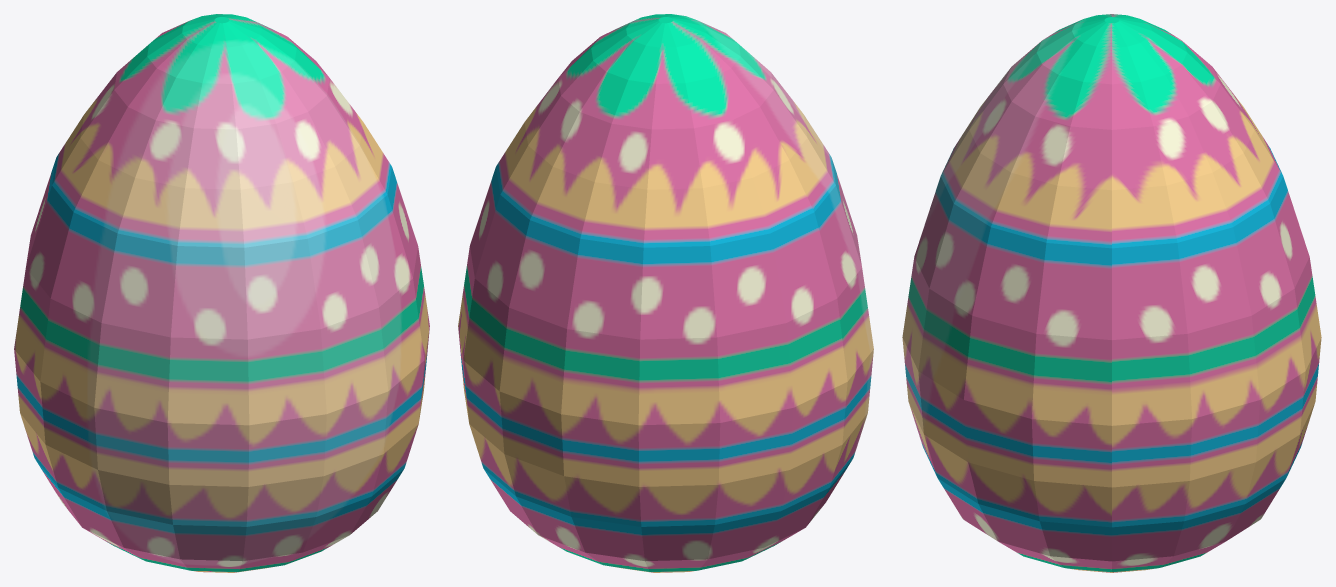
The picture shows the model from 3 angles, left to right: view 1: azimuth 30°, elevation 25°; view 2: azimuth 150°, elevation 25°; view 3: azimuth 270°, elevation 25°; orthographic projection.
Visible parts, largest first — view 1: Colections_Easter_Eggs_3_3; view 2: Colections_Easter_Eggs_3_3; view 3: Colections_Easter_Eggs_3_3.
Part boxes in pixels (<box>): Colections_Easter_Eggs_3_3: <box>14,14,429,572</box>; Colections_Easter_Eggs_3_3: <box>458,14,873,572</box>; Colections_Easter_Eggs_3_3: <box>902,14,1321,572</box>.
Size of the model in its own units: 0.2337 by 0.3254 by 0.2337.
